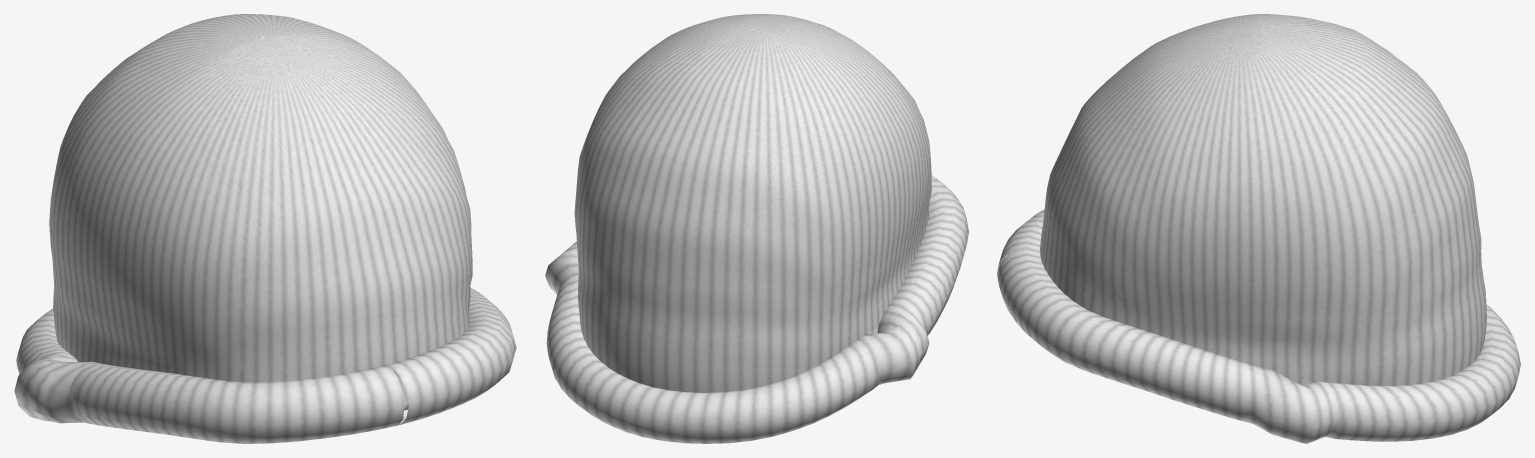
Rendered from acc_beanie_female.glb.
3 views of the same model, side by side, from view 1: azimuth 30°, elevation 25°; view 2: azimuth 150°, elevation 25°; view 3: azimuth 270°, elevation 25° (orthographic). The views are drawn at different scales.
Parts seen in each view (by area): view 1: beanie; view 2: beanie; view 3: beanie.
Boxes of the visible parts, x1,y1,x2,y2 form: beanie: (14,14,516,443); beanie: (545,14,968,443); beanie: (997,14,1520,443).
Bounding box in the file's own units: 0.2278 × 0.1962 × 0.2573.
1 material, 1 textured.
